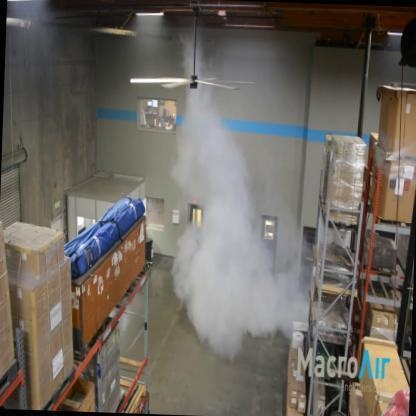smoke: (174, 87, 283, 355)
